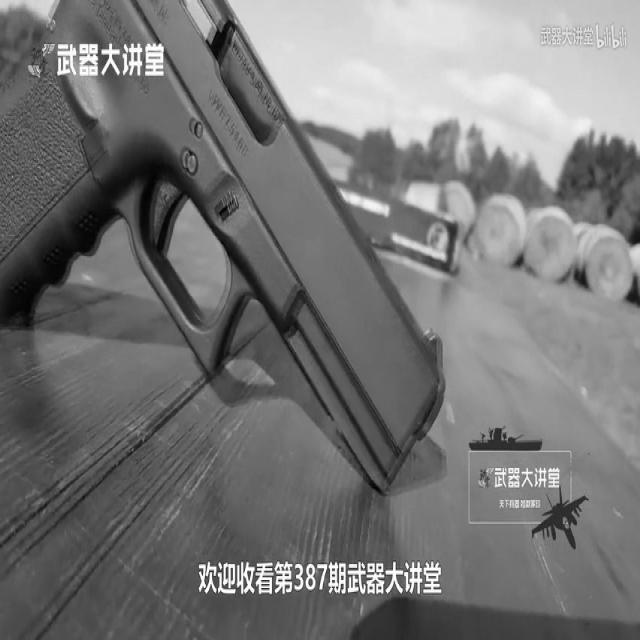Hand-Gun: (0, 0, 479, 522)
